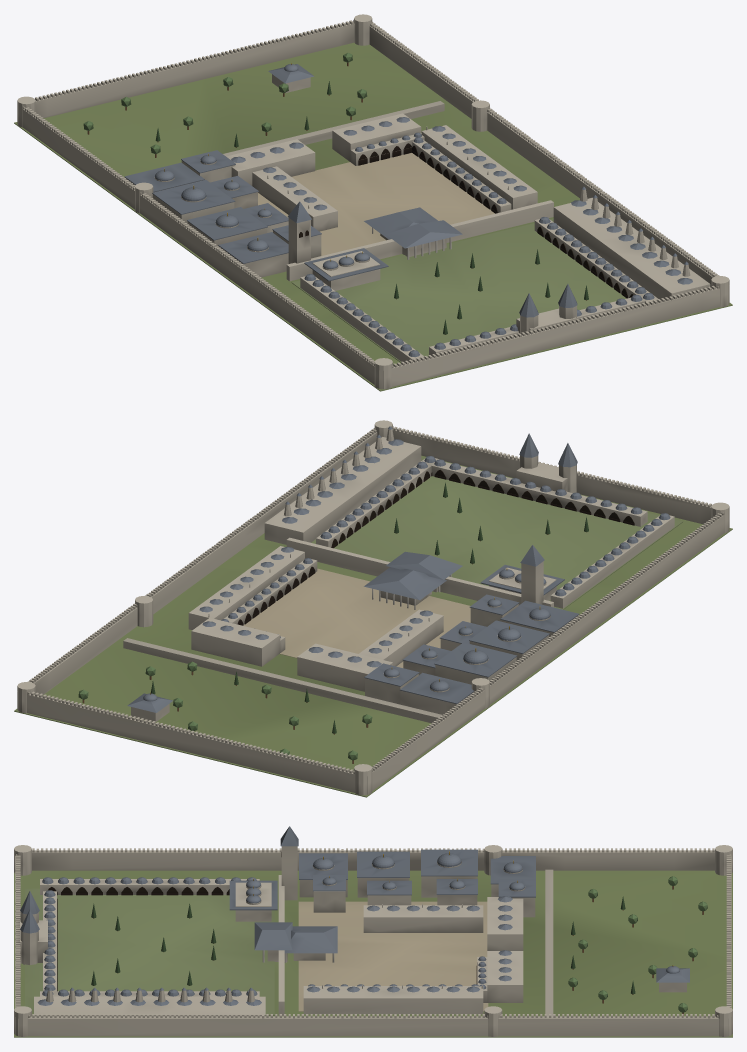
Rendered from topkapi.glb.
3 views of the same model, one above another, from view 1: azimuth 30°, elevation 25°; view 2: azimuth 150°, elevation 25°; view 3: azimuth 270°, elevation 25° (orthographic).
Parts seen in each view (by area): view 1: p0_walls, p2_second court, p3_third court, p1_gates; view 2: p0_walls, p2_second court, p3_third court, p1_gates; view 3: p0_walls, p2_second court, p3_third court, p1_gates.
Boxes of the visible parts, x1,y1,x2,y2 form: p0_walls: (14,14,732,391); p2_second court: (124,150,710,362); p3_third court: (83,53,537,240); p1_gates: (286,200,577,333); p0_walls: (14,420,732,797); p2_second court: (264,426,674,714); p3_third court: (78,546,446,763); p1_gates: (286,433,577,607); p0_walls: (14,845,732,1037); p2_second court: (34,826,535,1016); p3_third court: (284,869,707,1016); p1_gates: (20,875,292,1015).
Size of the model in its own units: 200 by 39.4 by 360.
